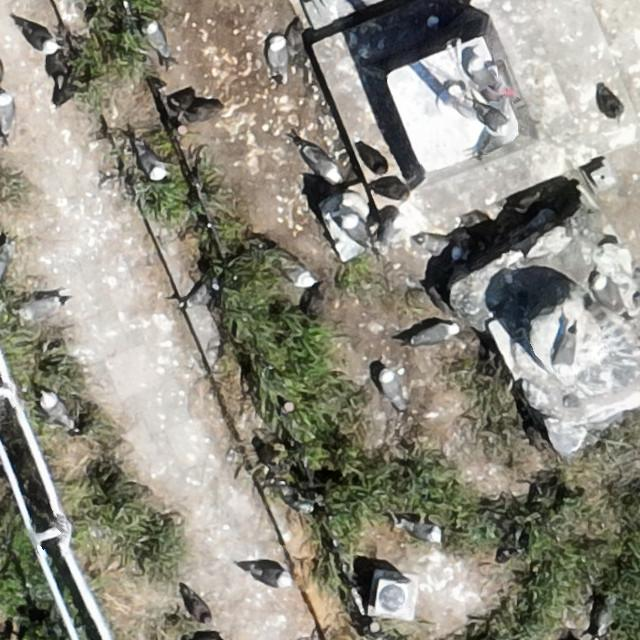umineko: (298, 137, 344, 186), (469, 96, 511, 136), (554, 326, 579, 378), (470, 54, 502, 88), (22, 24, 54, 52), (251, 566, 287, 588), (140, 149, 165, 178), (403, 520, 439, 540), (379, 369, 400, 403), (20, 299, 54, 319), (418, 325, 455, 343), (268, 38, 286, 74), (596, 278, 618, 306), (148, 24, 167, 56), (343, 218, 365, 244), (43, 396, 64, 419), (290, 268, 314, 288), (0, 96, 12, 135)
